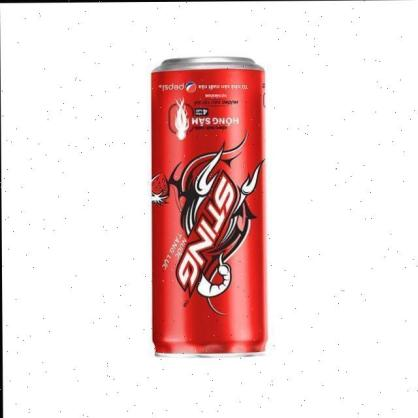can: (148, 54, 268, 361)
